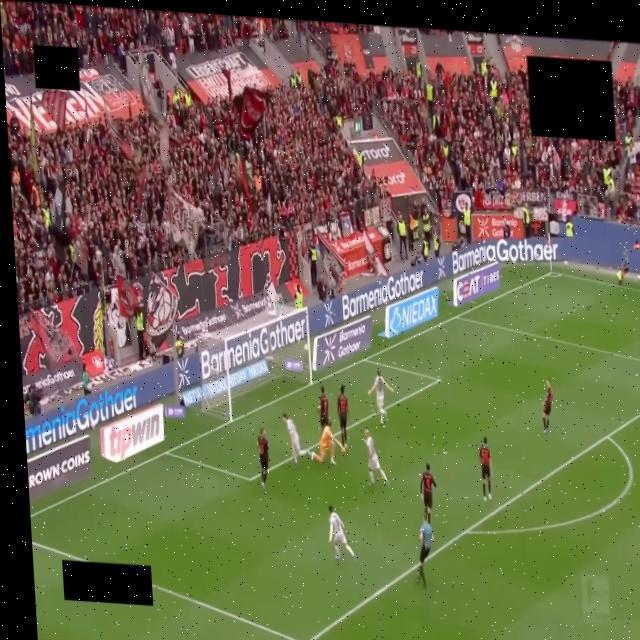player: (329, 505, 355, 560), (311, 420, 342, 465), (364, 431, 388, 486), (369, 371, 393, 423), (283, 413, 303, 465), (420, 464, 435, 522), (479, 437, 492, 500), (337, 385, 349, 450), (257, 428, 269, 488), (543, 379, 553, 433), (319, 386, 329, 431)
referee: (417, 515, 433, 588)
